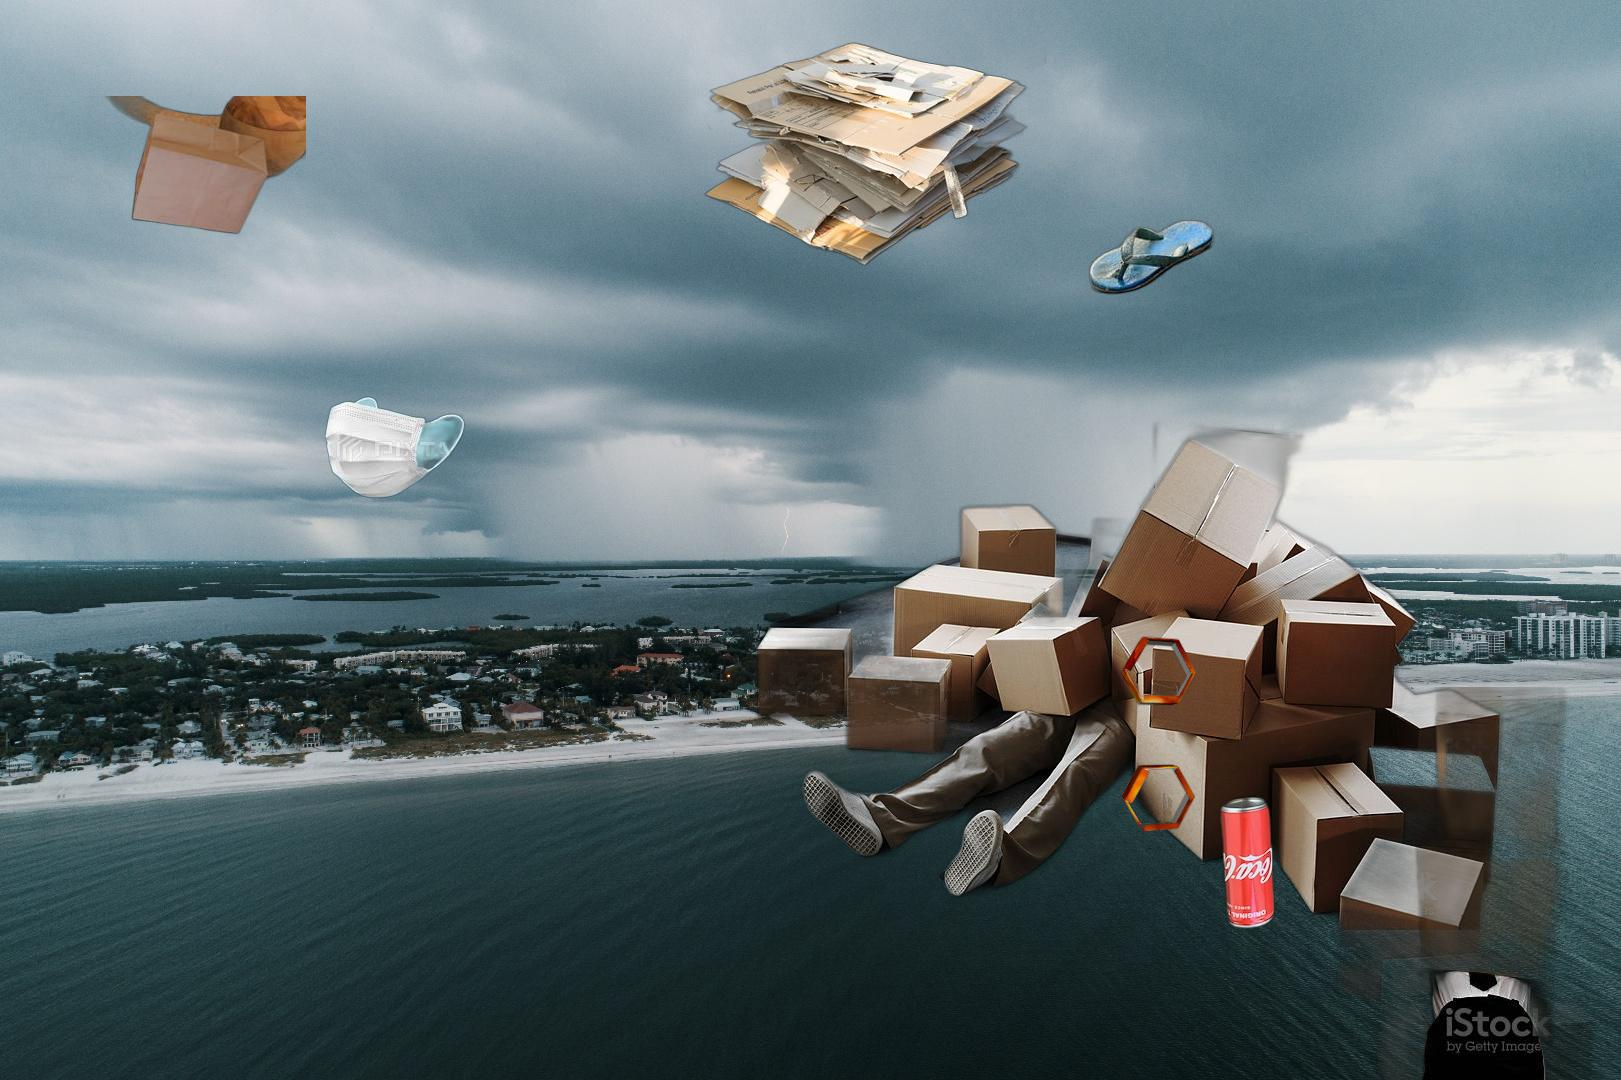metal-cans: (1215, 790, 1279, 935)
paper-bag: (6, 96, 306, 389)
shoes: (1088, 218, 1217, 297)
trash: (323, 394, 466, 501)
trashbox-cardboard: (746, 407, 1614, 1080), (1358, 687, 1617, 1080), (703, 39, 1047, 268), (1118, 635, 1199, 833)
